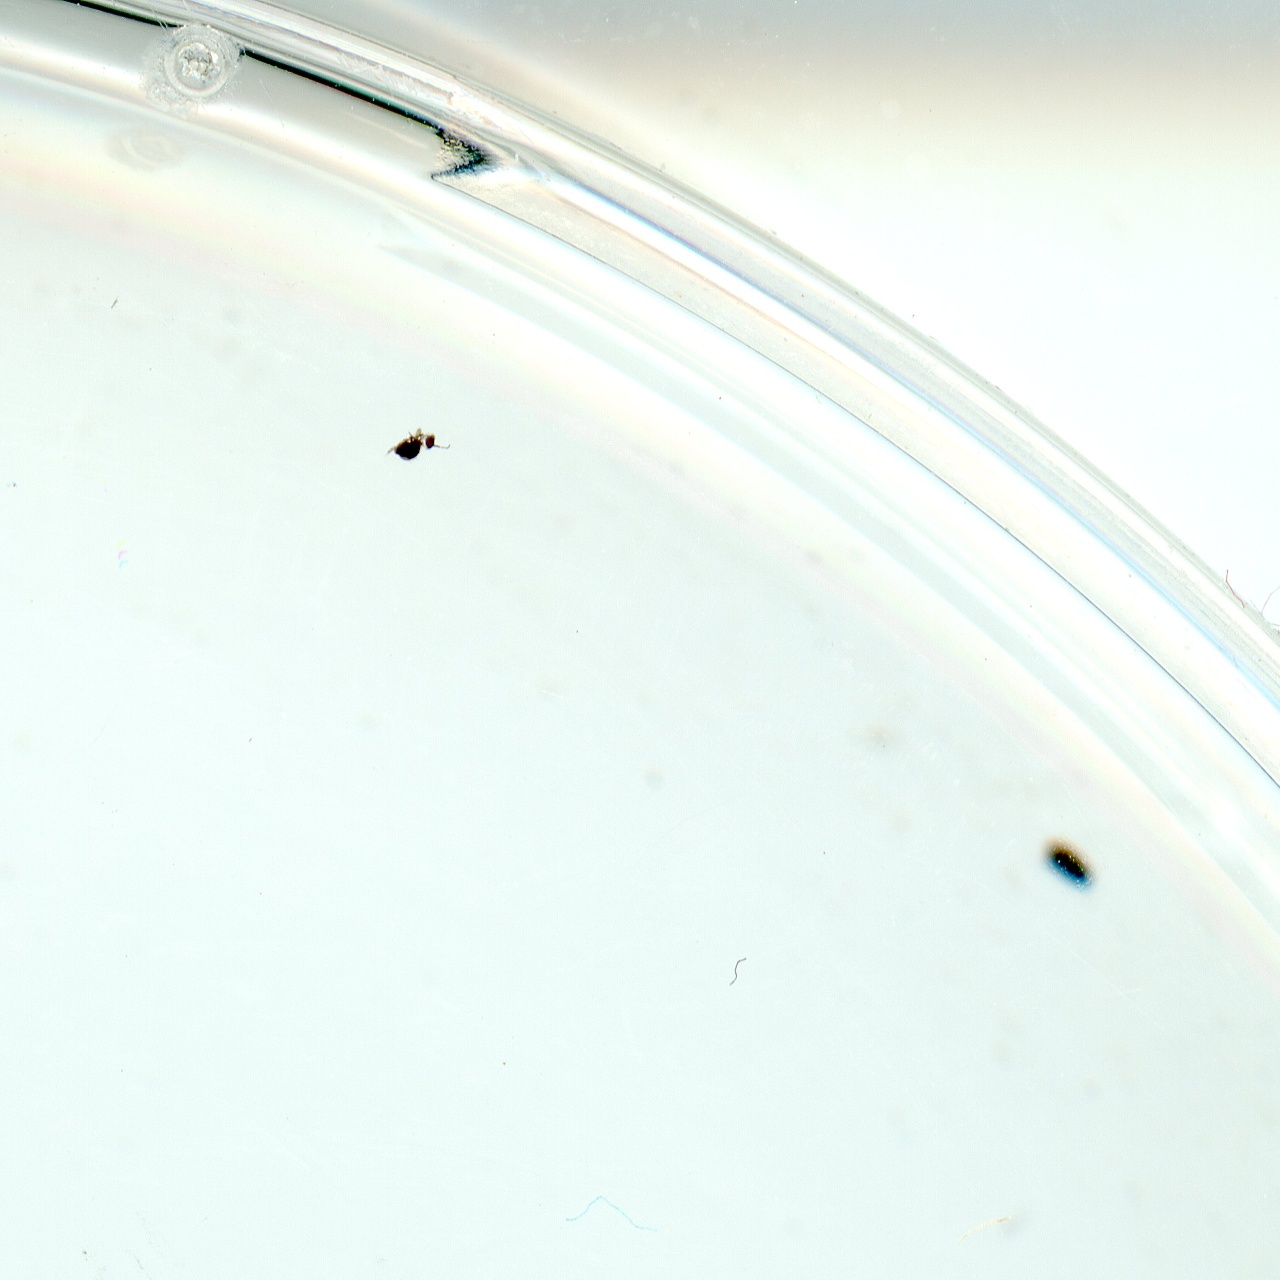arthropod: (376, 420, 454, 469)
